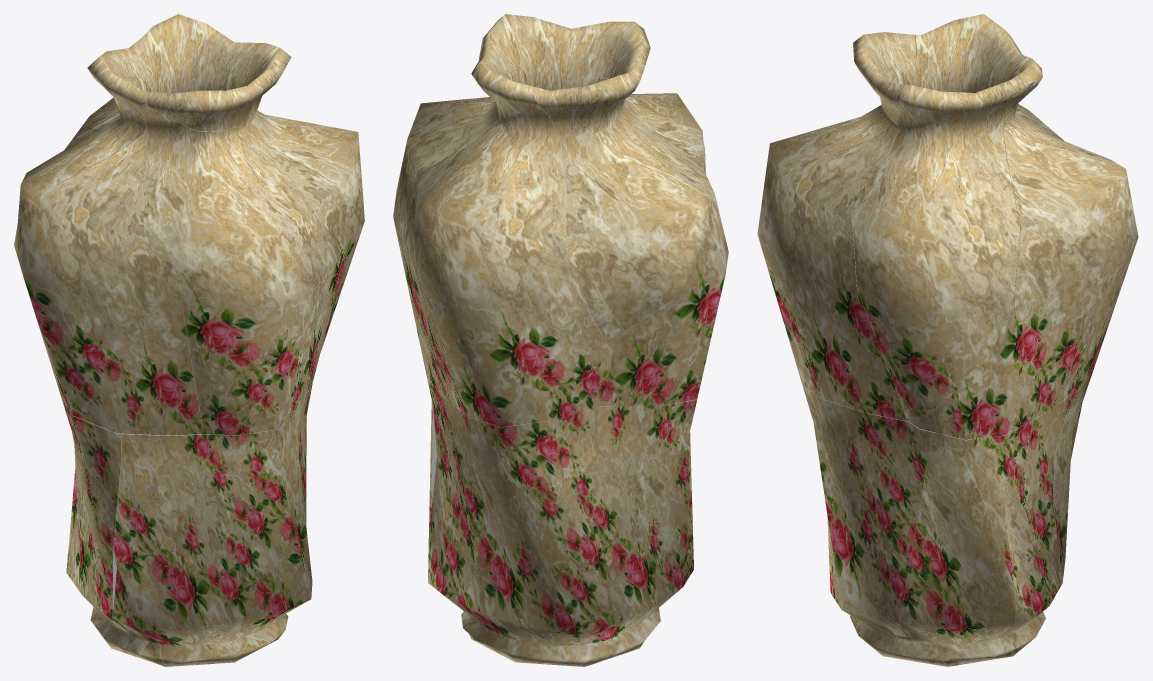
Rendered from JVase_4_cell.fbx.
The picture shows the model from 3 angles, left to right: view 1: azimuth 30°, elevation 25°; view 2: azimuth 150°, elevation 25°; view 3: azimuth 270°, elevation 25°; orthographic projection.
Visible parts, largest first — view 1: JVase_4_cell_003, JVase_4_cell_006, JVase_4_cell_008, JVase_4_cell_009, JVase_4_cell_001, JVase_4_cell_002, JVase_4_cell_005, JVase_4_cell_004, JVase_4_cell_010; view 2: JVase_4_cell_001, JVase_4_cell_010, JVase_4_cell_002, JVase_4_cell_003, JVase_4_cell_004, JVase_4_cell_009, JVase_4_cell_005, JVase_4_cell_008, JVase_4_cell; view 3: JVase_4_cell_009, JVase_4_cell_010, JVase_4_cell_008, JVase_4_cell, JVase_4_cell_006, JVase_4_cell_001, JVase_4_cell_002, JVase_4_cell_005, JVase_4_cell_004, JVase_4_cell_003.
Part boxes in pixels (box(x1,y1,x2,y2)): JVase_4_cell_003: box(16, 104, 203, 435); JVase_4_cell_006: box(112, 383, 312, 666); JVase_4_cell_008: box(178, 123, 349, 435); JVase_4_cell_009: box(192, 20, 364, 350); JVase_4_cell_001: box(58, 387, 131, 654); JVase_4_cell_002: box(14, 38, 150, 250); JVase_4_cell_005: box(144, 54, 286, 131); JVase_4_cell_004: box(64, 14, 197, 149); JVase_4_cell_010: box(71, 97, 119, 140); JVase_4_cell_001: box(427, 379, 697, 666); JVase_4_cell_010: box(398, 124, 612, 427); JVase_4_cell_002: box(532, 61, 708, 330); JVase_4_cell_003: box(603, 74, 728, 405); JVase_4_cell_004: box(474, 65, 624, 353); JVase_4_cell_009: box(393, 14, 561, 273); JVase_4_cell_005: box(515, 15, 650, 80); JVase_4_cell_008: box(560, 78, 703, 139); JVase_4_cell: box(429, 400, 660, 626); JVase_4_cell_009: box(852, 75, 1024, 439); JVase_4_cell_010: box(972, 128, 1138, 438); JVase_4_cell_008: box(757, 102, 908, 421); JVase_4_cell: box(892, 432, 1015, 666); JVase_4_cell_006: box(803, 387, 933, 657); JVase_4_cell_001: box(999, 365, 1094, 657); JVase_4_cell_002: box(915, 14, 1062, 139); JVase_4_cell_005: box(853, 32, 916, 123); JVase_4_cell_004: box(996, 55, 1063, 140); JVase_4_cell_003: box(897, 57, 934, 89).
Size of the model in its own units: 52.59 by 88.19 by 52.6.
